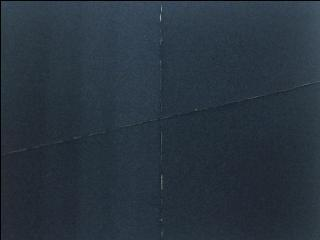crack: (0, 78, 319, 162), (151, 0, 172, 240)
